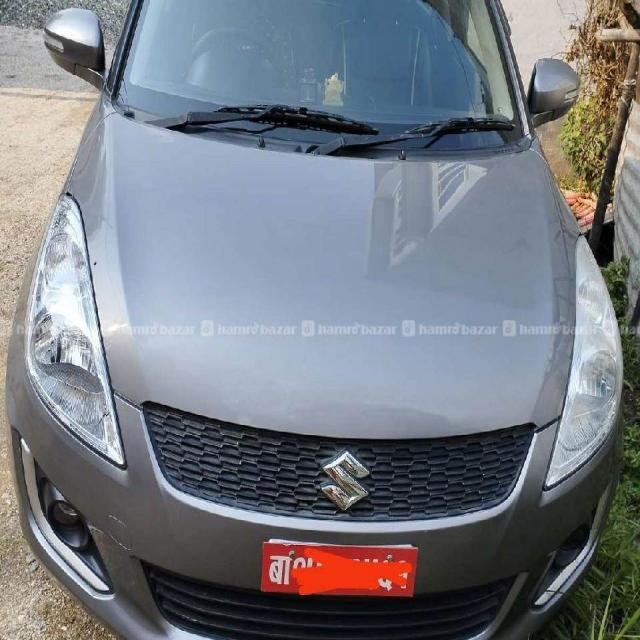License-plate: (268, 542, 411, 596)
